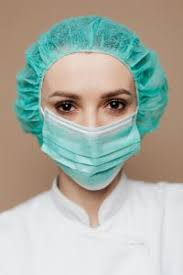mask: (39, 45, 147, 191)
